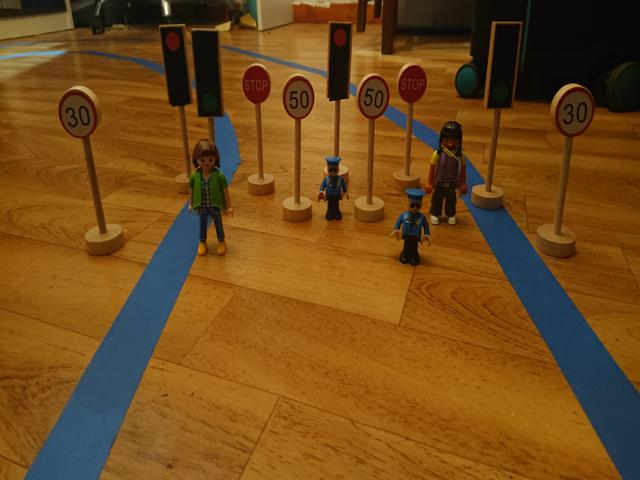30 speed sign: (553, 87, 595, 137), (57, 93, 98, 139)
50 speed sign: (357, 75, 392, 120), (282, 76, 315, 119)
green light: (193, 35, 221, 118), (492, 22, 512, 108)
person: (184, 136, 234, 258), (424, 122, 469, 226), (388, 183, 430, 267), (313, 156, 350, 225)
red light: (163, 27, 185, 96), (329, 23, 349, 96)
stop sign: (396, 64, 429, 103), (240, 65, 271, 103)
